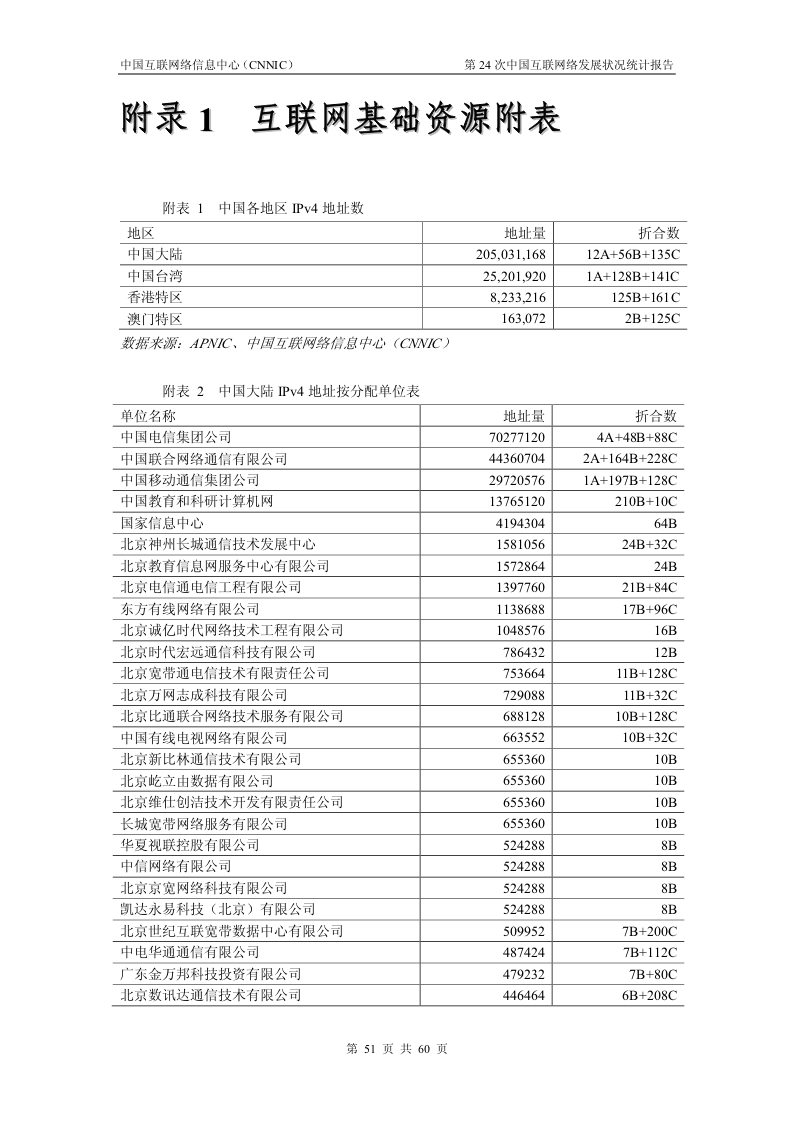table: (111, 404, 685, 1007), (119, 221, 688, 330)
